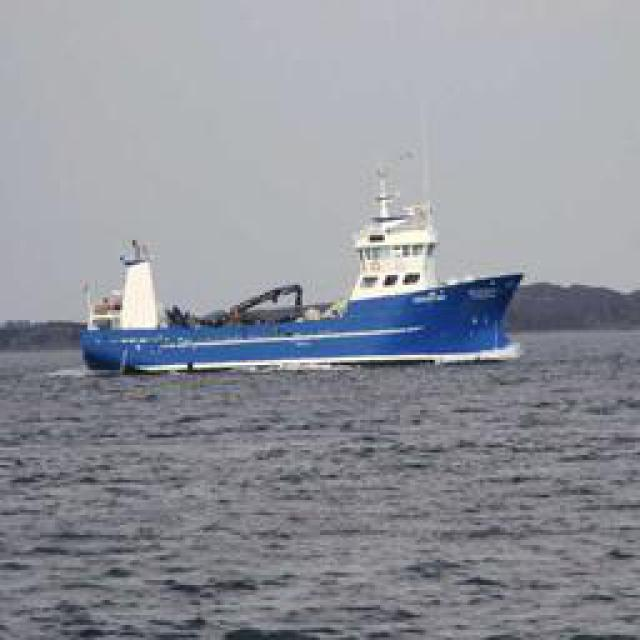Ship: (85, 169, 533, 372)
